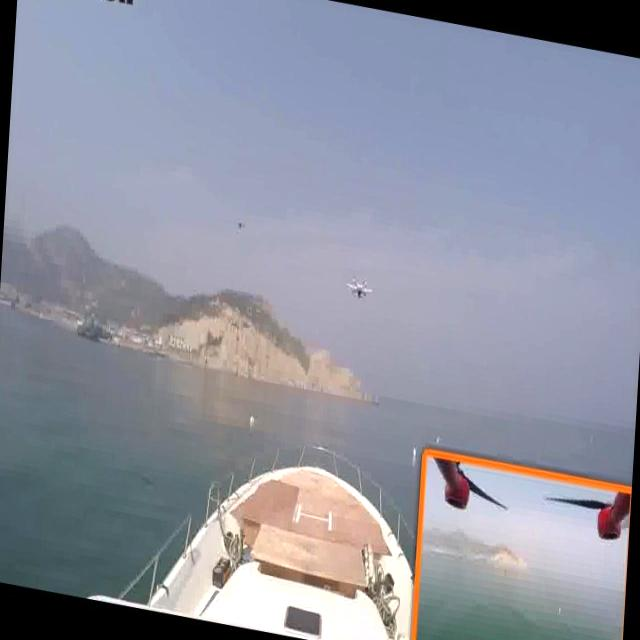drone: (334, 262, 389, 318)
